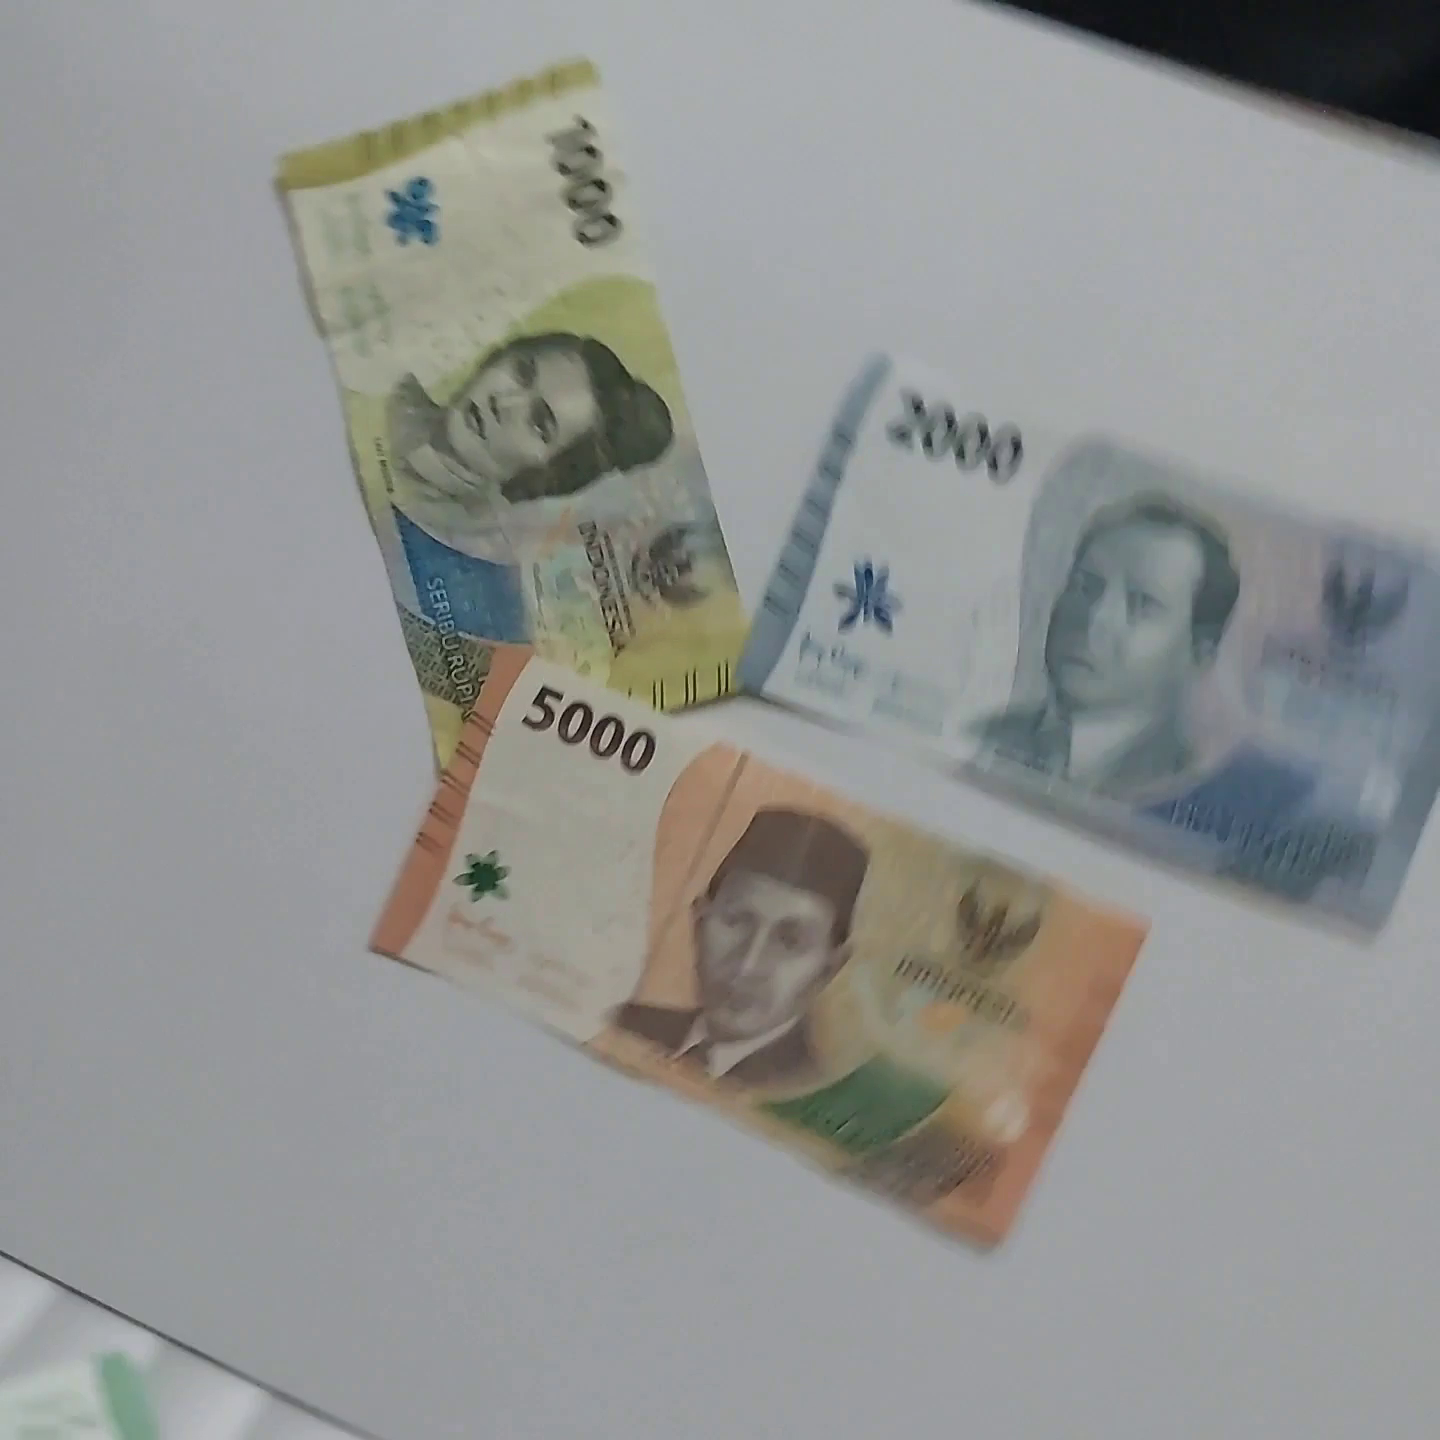1k: (239, 41, 757, 775)
2k: (723, 289, 1440, 942)
5k: (377, 640, 1130, 1321)
